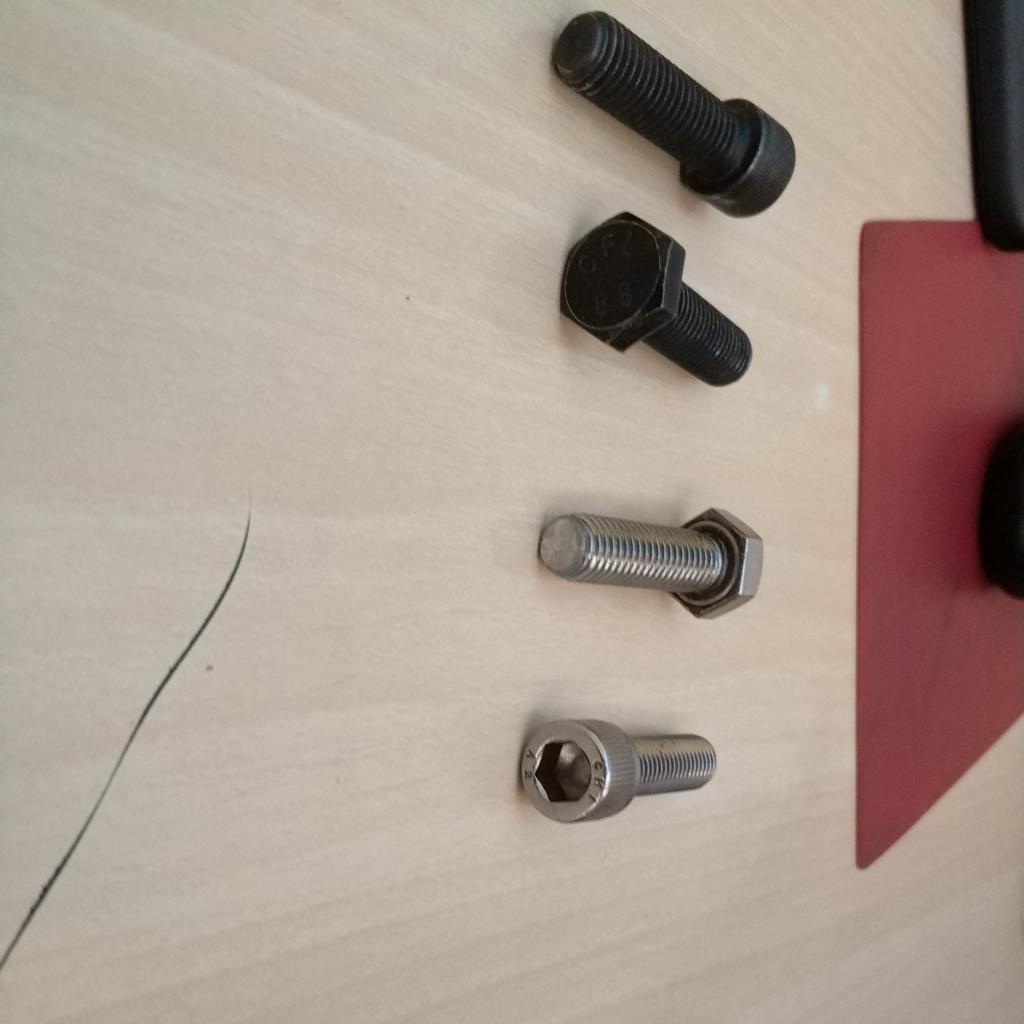screwtype1black: (549, 5, 798, 223)
screwtype1silver: (513, 711, 722, 832)
screwtype2black: (559, 206, 754, 391)
screwtype2silver: (530, 490, 768, 628)
